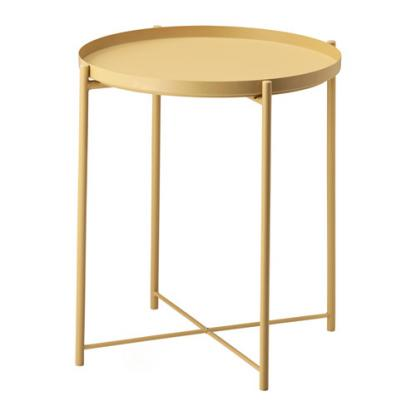Table: (64, 21, 345, 395)
